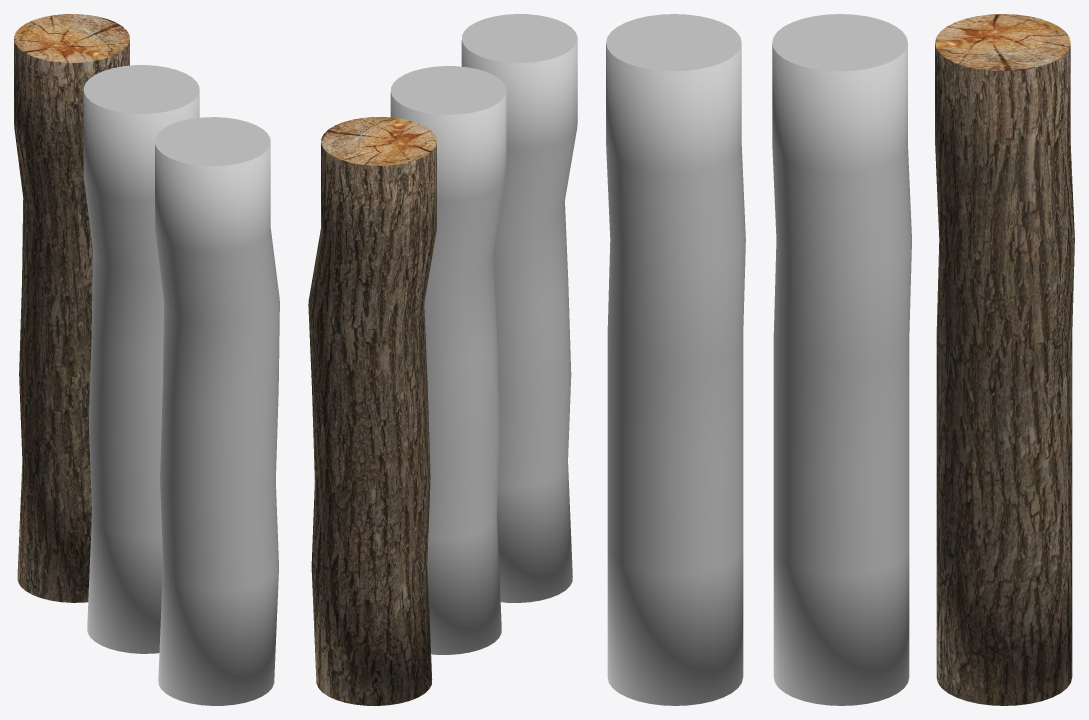
Rendered from wood.fbx.
The picture shows the model from 3 angles, left to right: view 1: azimuth 30°, elevation 25°; view 2: azimuth 150°, elevation 25°; view 3: azimuth 270°, elevation 25°; orthographic projection. The views are drawn at different scales.
Visible parts, largest first — view 1: Cylinder.006, Cylinder.002, Cylinder.004; view 2: Cylinder.004, Cylinder.006, Cylinder.002; view 3: Cylinder.004, Cylinder.006, Cylinder.002.
Boxes of the visible parts, x1=… form: Cylinder.006: x1=155, y1=117, x2=279, y2=705; Cylinder.002: x1=83, y1=65, x2=199, y2=653; Cylinder.004: x1=14, y1=14, x2=129, y2=602; Cylinder.004: x1=308, y1=117, x2=436, y2=705; Cylinder.006: x1=461, y1=14, x2=577, y2=602; Cylinder.002: x1=390, y1=66, x2=506, y2=654; Cylinder.004: x1=935, y1=14, x2=1074, y2=705; Cylinder.006: x1=606, y1=14, x2=745, y2=705; Cylinder.002: x1=772, y1=14, x2=911, y2=705.
Size of the model in its own units: 222 by 1029 by 691.
